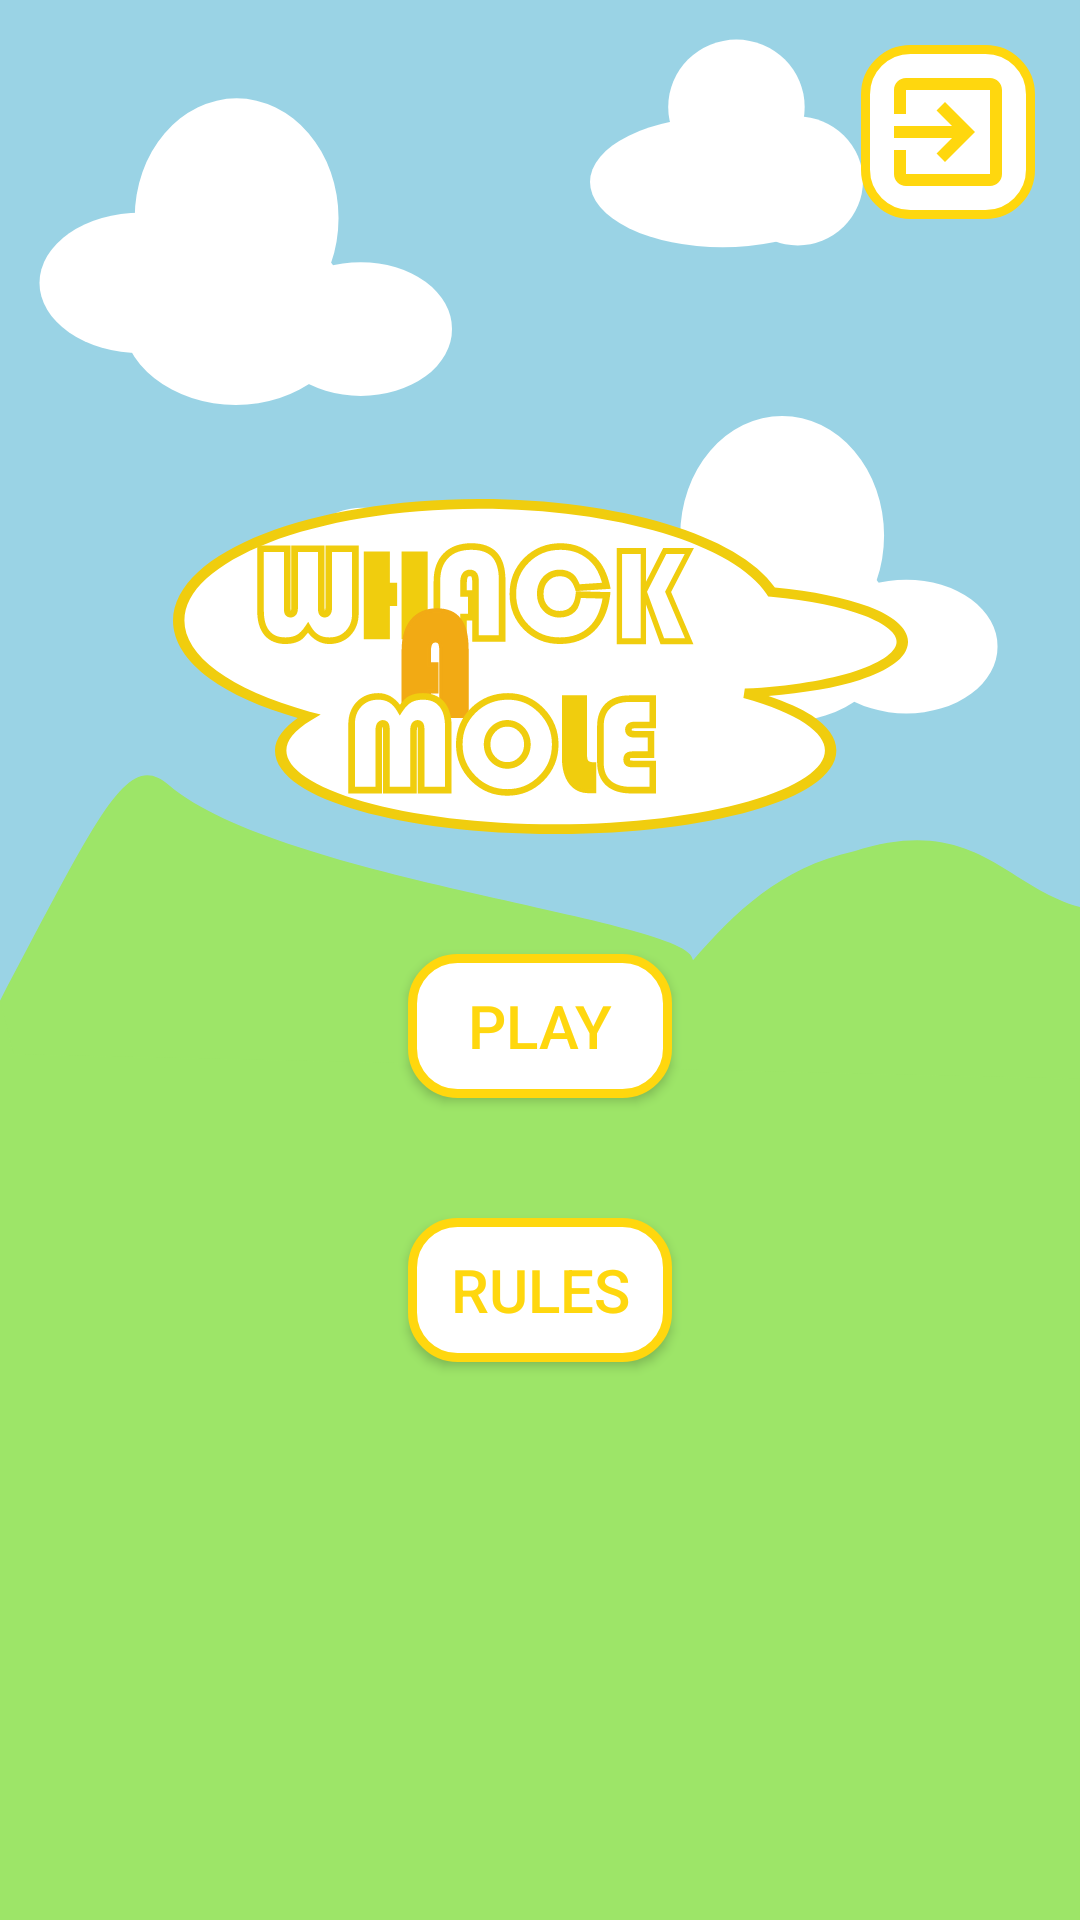

Screen size 1080x1920. Icon name, then its center in pixels as (x,y):
exit src: (948,132)
